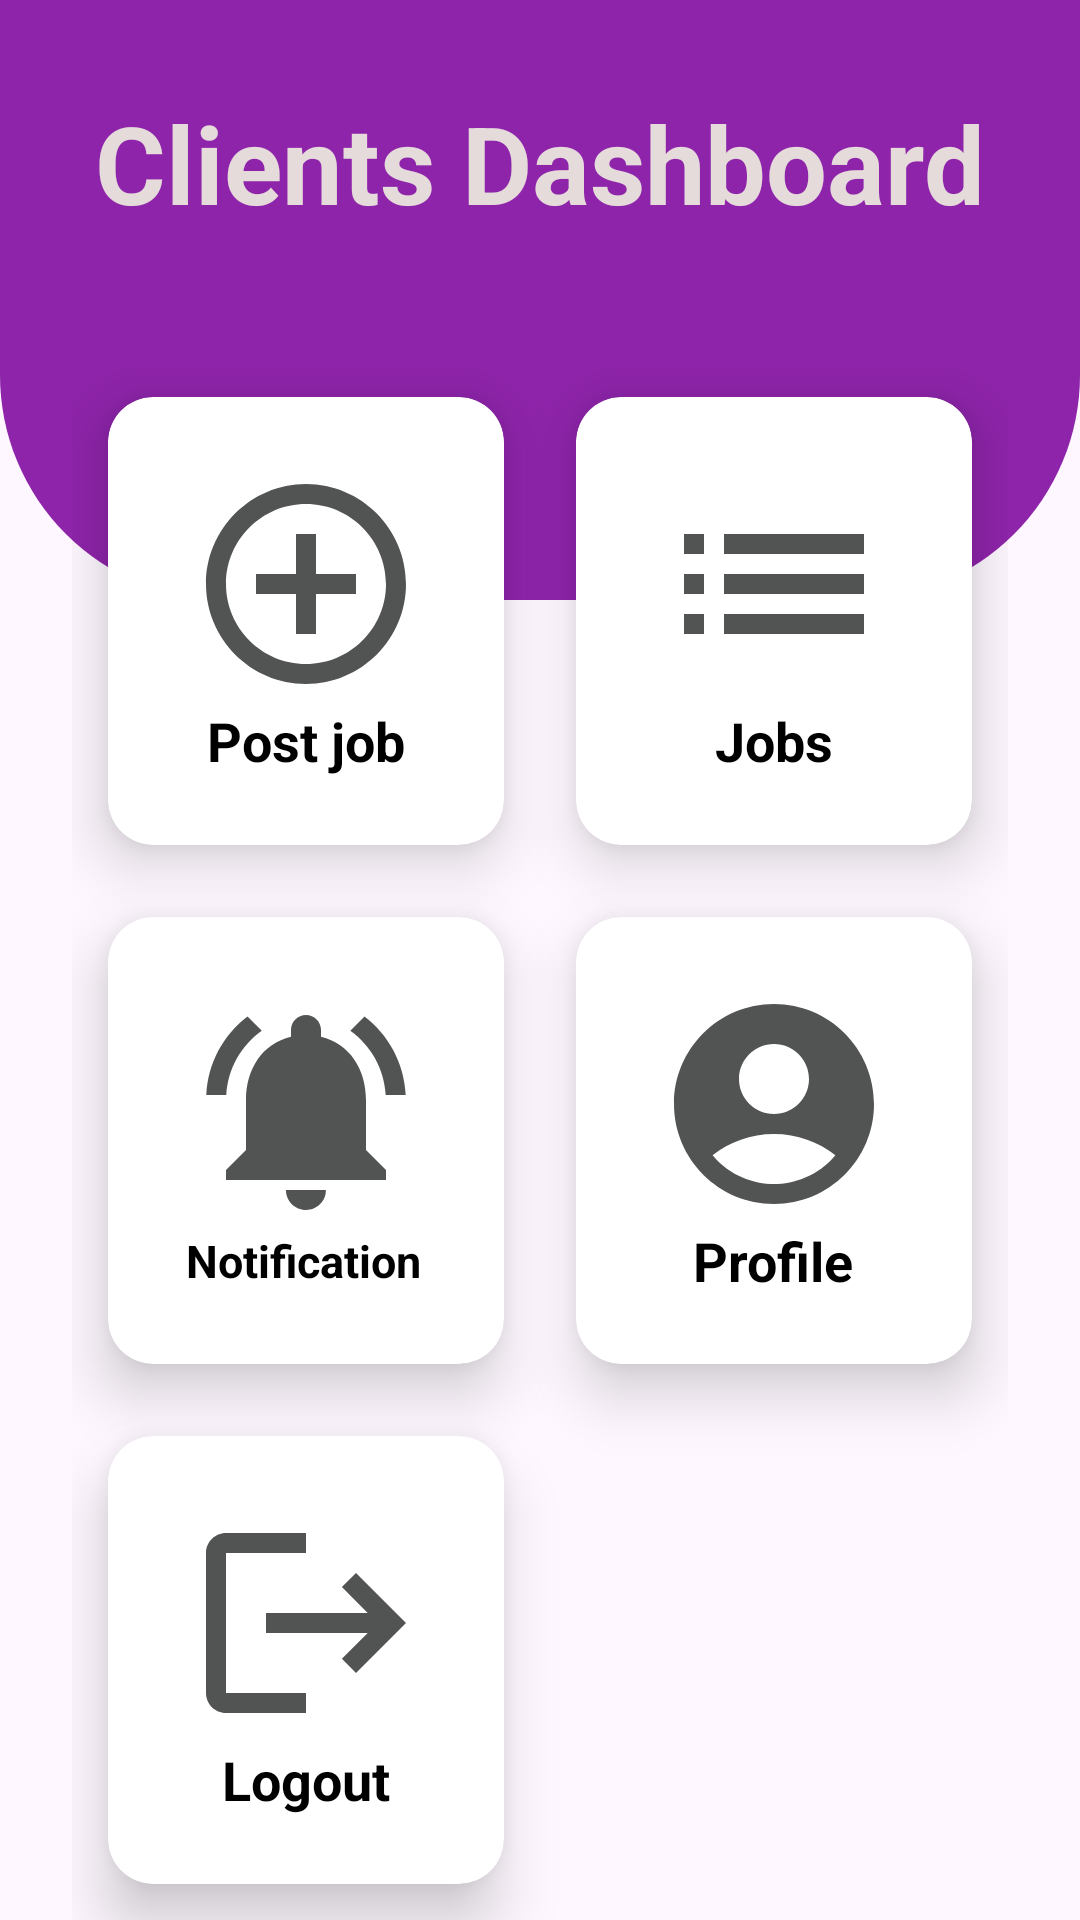

Named icons in this screenshot (1080*1920) and their centers, [x,y]:
list: [774,584]
